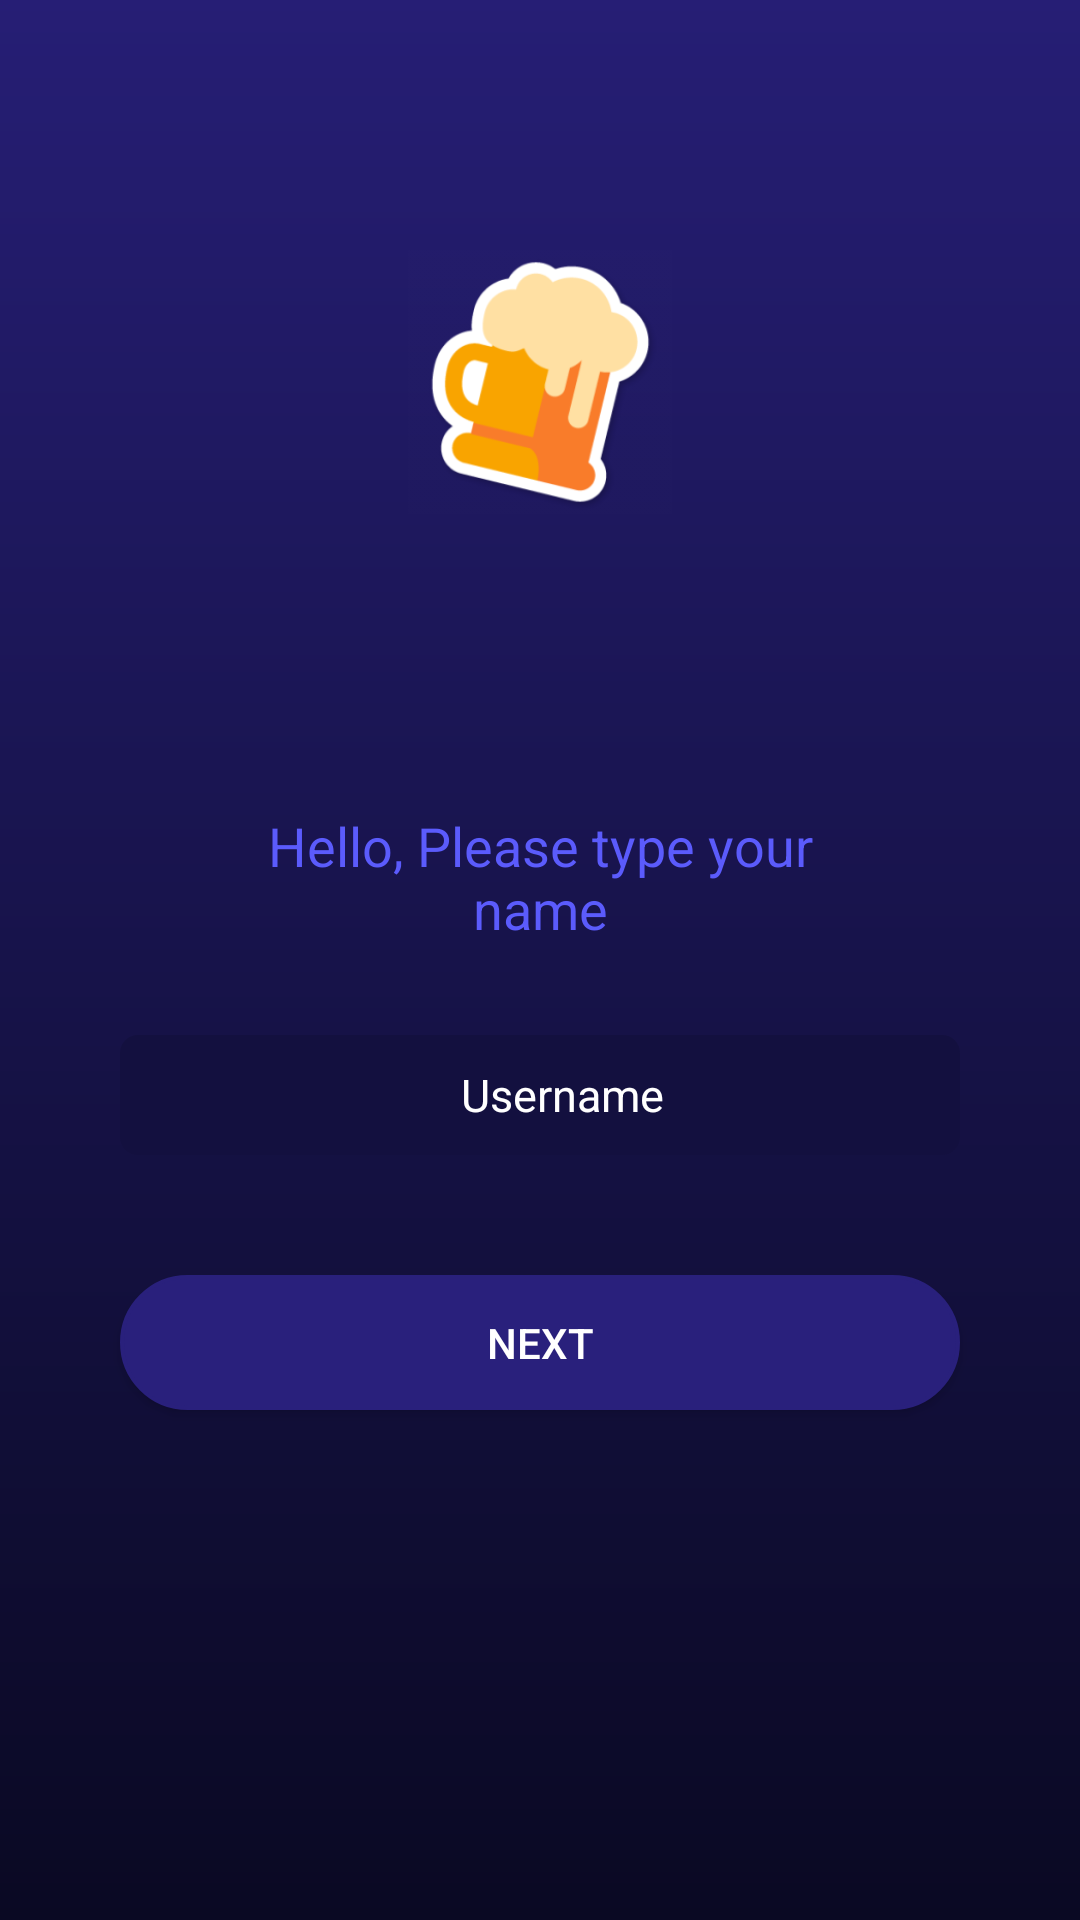

Locate icon controls on the screen. Image size 1080 × 1920, boxes as box=[x1, y1, x2, y2].
beer: box=[432, 262, 649, 503]
